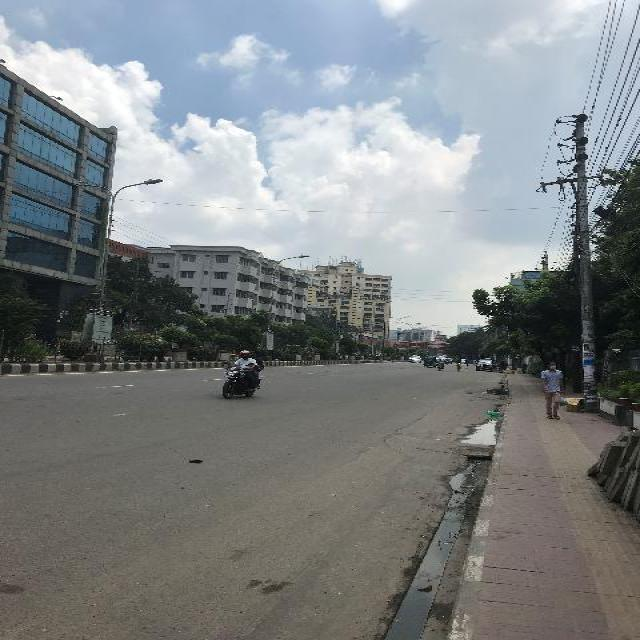10: (220, 346, 264, 402), (436, 358, 444, 370), (444, 356, 449, 364)
12: (475, 355, 493, 371)
17: (423, 354, 436, 368)
5: (408, 354, 421, 364)
Motorcycle: (456, 358, 461, 370)
